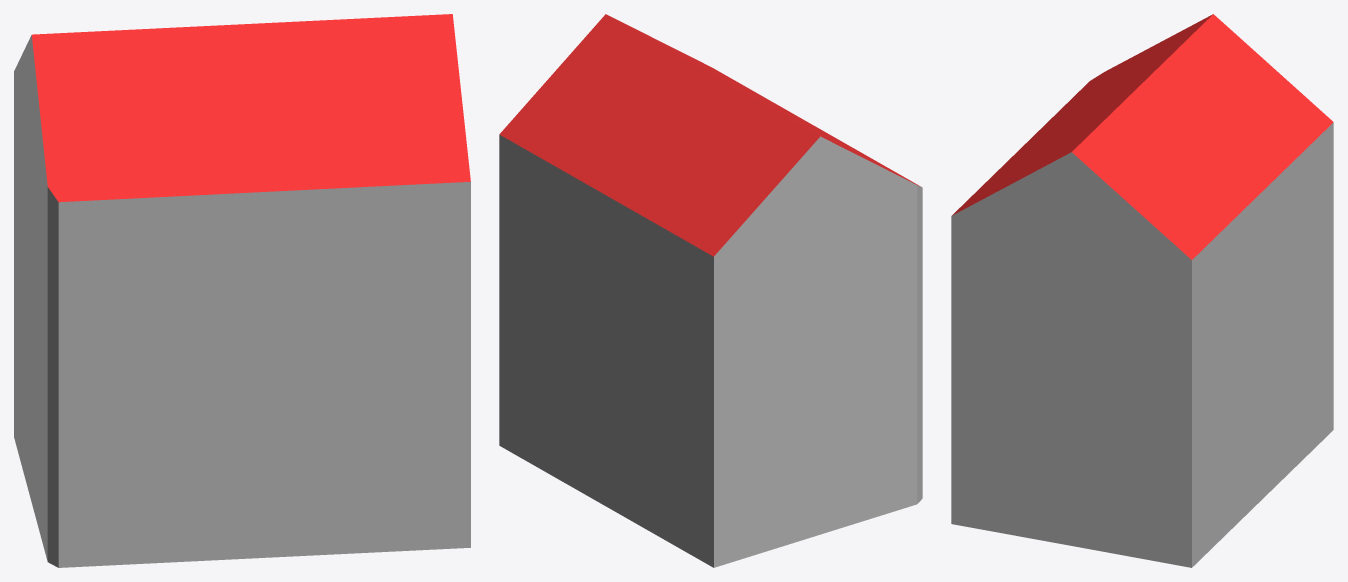
Rendered from DEBY_LOD2_4907008.dae.
3 views of the same model, side by side, from view 1: azimuth 30°, elevation 25°; view 2: azimuth 150°, elevation 25°; view 3: azimuth 270°, elevation 25° (orthographic). The views are drawn at different scales.
Bounding box in the file's own units: 19.97 × 17.91 × 20.35.
